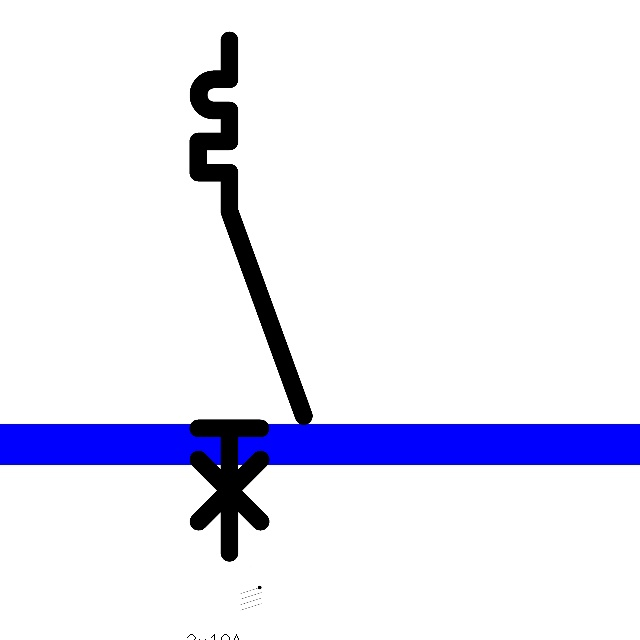interruptor_termomagnetico: (185, 27, 317, 566)
